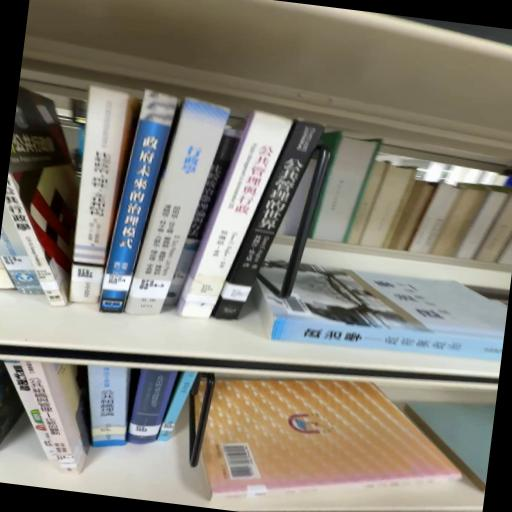flat: (202, 381, 462, 499), (254, 261, 508, 362)
